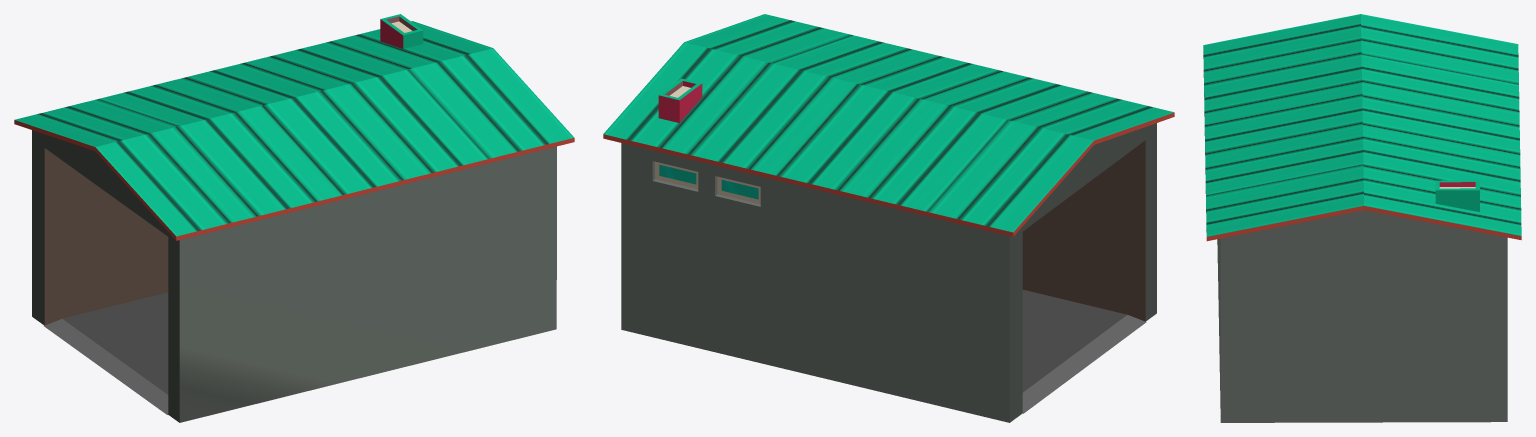
Rendered from house_4.fbx.
3 views of the same model, side by side, from view 1: azimuth 30°, elevation 25°; view 2: azimuth 150°, elevation 25°; view 3: azimuth 270°, elevation 25° (orthographic). The views are drawn at different scales.
Visible parts, largest first — view 1: house_2; view 2: house_2; view 3: house_2.
Part boxes in pixels (x1,y1,x2,y2): house_2: (14,14,574,422); house_2: (603,14,1174,422); house_2: (1203,14,1521,422).
Bounding box in the file's own units: 139 × 74.7 × 97.21.
